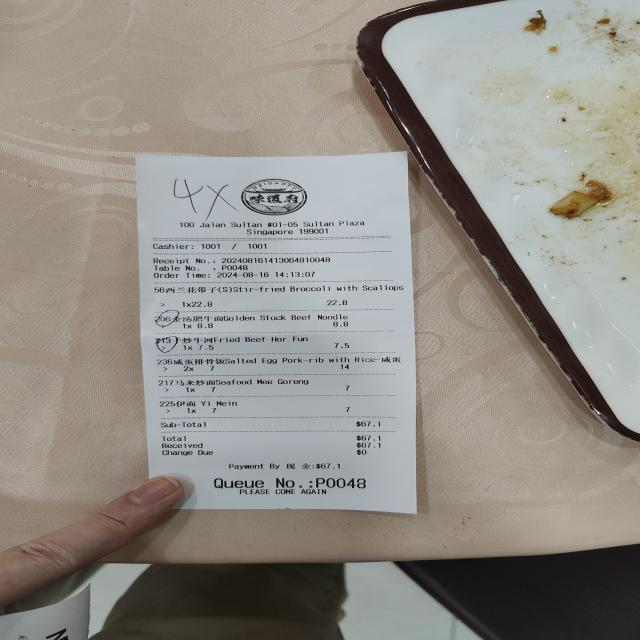bill_region: (140, 282, 412, 458)
